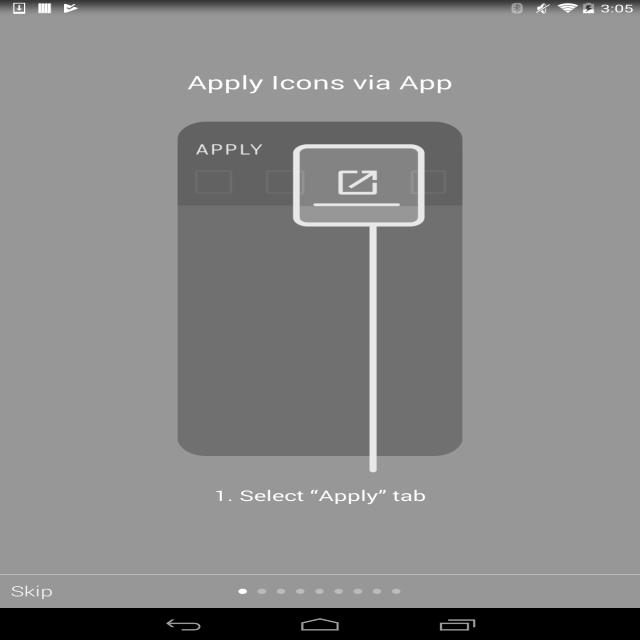ImageView: (291, 145, 424, 227)
TextView: (186, 72, 452, 93), (212, 486, 434, 508), (190, 140, 263, 158), (8, 581, 57, 601)
